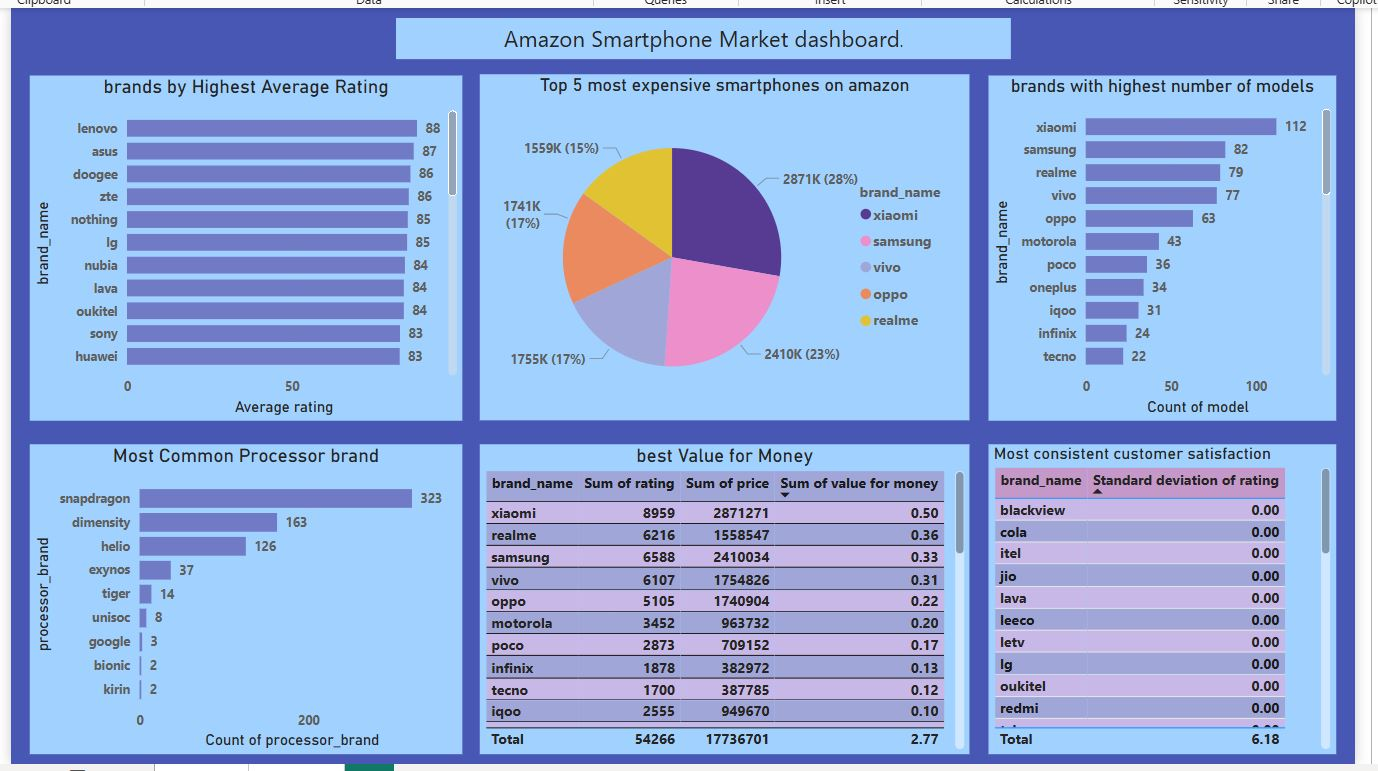

Layout of this report page (visuals, bound fields, positions):
{"tool":"powerbi","page":{"name":"Page 1","canvas":[1280,720],"ordinal":0},"visuals":[{"type":"barChart","title":"brands by Highest Average Rating","fields":{"Y":["smartphones_dataset.Average rating"],"Category":["smartphones_dataset.brand_name"]},"box":[17.9,64.3,411.9,328.6],"z":0},{"type":"pieChart","title":"Top 5 most expensive smartphones on amazon","fields":{"Y":["Sum(smartphones_dataset.price)"],"Category":["smartphones_dataset.brand_name"]},"box":[446.4,63.1,466.7,329.8],"z":1000},{"type":"barChart","title":"Most Common Processor brand","fields":{"Category":["smartphones_dataset.processor_brand"],"Y":["CountNonNull(smartphones_dataset.processor_brand)"]},"box":[17.9,415.5,411.9,295.2],"z":2000},{"type":"tableEx","title":"best Value for Money","fields":{"Values":["smartphones_dataset.brand_name","Sum(smartphones_dataset.rating)","Sum(smartphones_dataset.price)","Sum(smartphones_dataset.value for money)"]},"box":[446.4,415.5,466.7,295.2],"z":3000},{"type":"tableEx","title":"Most consistent customer satisfaction","fields":{"Values":["smartphones_dataset.brand_name","Sum(smartphones_dataset.rating)"]},"box":[931,415.5,331,295.2],"z":4000},{"type":"barChart","title":"brands with highest number of models","fields":{"Category":["smartphones_dataset.brand_name"],"Y":["CountNonNull(smartphones_dataset.model)"]},"box":[931,64.3,331,328.6],"z":5000},{"type":"textbox","box":[366.7,9.5,585.7,39.3],"z":6000}]}

Visuals, with their boxes in screenshot pixels (x1, y1, x2, y2):
"brands by Highest Average Rating" barChart: (x1=23, y1=72, x2=458, y2=419)
"Top 5 most expensive smartphones on amazon" pieChart: (x1=475, y1=70, x2=969, y2=419)
"Most Common Processor brand" barChart: (x1=23, y1=443, x2=458, y2=755)
"best Value for Money" tableEx: (x1=475, y1=443, x2=969, y2=755)
"Most consistent customer satisfaction" tableEx: (x1=987, y1=443, x2=1337, y2=755)
"brands with highest number of models" barChart: (x1=987, y1=72, x2=1337, y2=419)
textbox: (x1=391, y1=14, x2=1010, y2=55)
